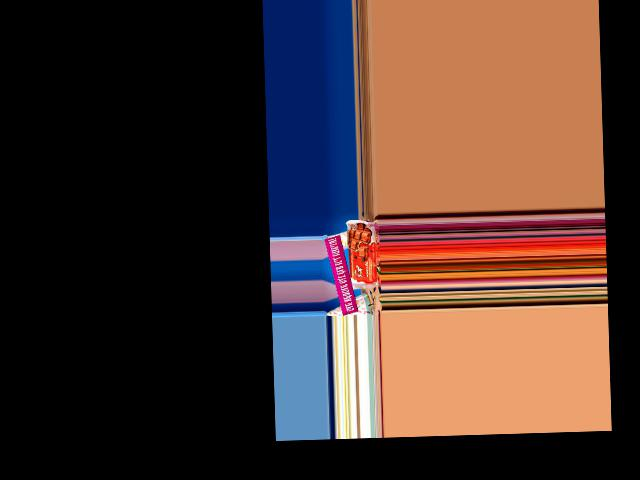chocolate: (345, 217, 379, 291)
